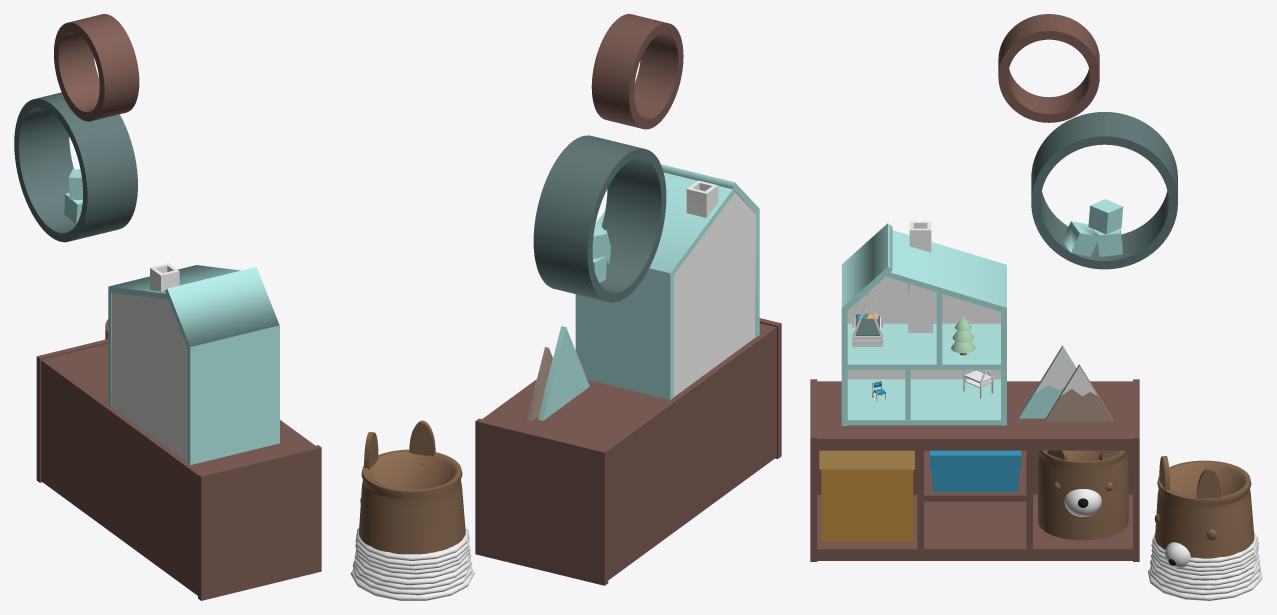
Rendered from Furn1_playzone_color4_joined.fbx.
3 renders of one model, left to right at view 1: azimuth 30°, elevation 25°; view 2: azimuth 150°, elevation 25°; view 3: azimuth 270°, elevation 25°, orthographic. The views are drawn at different scales.
Parts seen in each view (by area): view 1: Цилиндр.001; view 2: Цилиндр.001; view 3: Цилиндр.001.
Part boxes in pixels (<box>): Цилиндр.001: <box>14,14,321,600</box>; Цилиндр.001: <box>350,14,781,600</box>; Цилиндр.001: <box>810,14,1262,600</box>.
Size of the model in its own units: 200 by 471 by 392.
